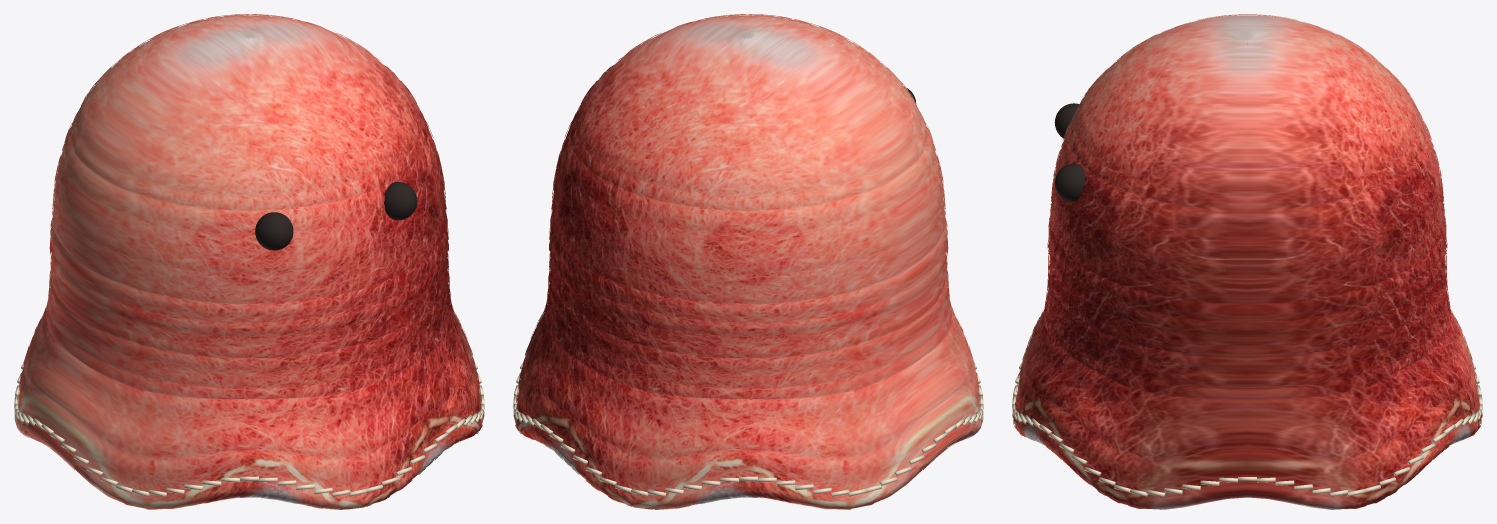
The picture shows the model from 3 angles, left to right: view 1: azimuth 30°, elevation 25°; view 2: azimuth 150°, elevation 25°; view 3: azimuth 270°, elevation 25°; orthographic projection.
Parts seen in each view (by area): view 1: 털겹_10, 털겹_09, 털겹_08, 눈_좌, 눈_우; view 2: 털겹_10, 털겹_09, 털겹_08; view 3: 털겹_10, 털겹_09, 털겹_08, 눈_우.
Boxes of the visible parts, bbox=[...] form: 털겹_10: bbox=[14, 14, 484, 509]; 털겹_09: bbox=[16, 15, 482, 509]; 털겹_08: bbox=[23, 16, 474, 506]; 눈_좌: bbox=[255, 212, 293, 250]; 눈_우: bbox=[384, 182, 417, 220]; 털겹_10: bbox=[513, 14, 983, 509]; 털겹_09: bbox=[515, 15, 981, 509]; 털겹_08: bbox=[523, 16, 974, 506]; 털겹_10: bbox=[1012, 14, 1482, 509]; 털겹_09: bbox=[1013, 16, 1481, 509]; 털겹_08: bbox=[1029, 21, 1465, 499]; 눈_우: bbox=[1054, 164, 1084, 202].
Size of the model in its own units: 2.11 by 1.93 by 2.11.
Materials: 13 (11 with a texture image).
